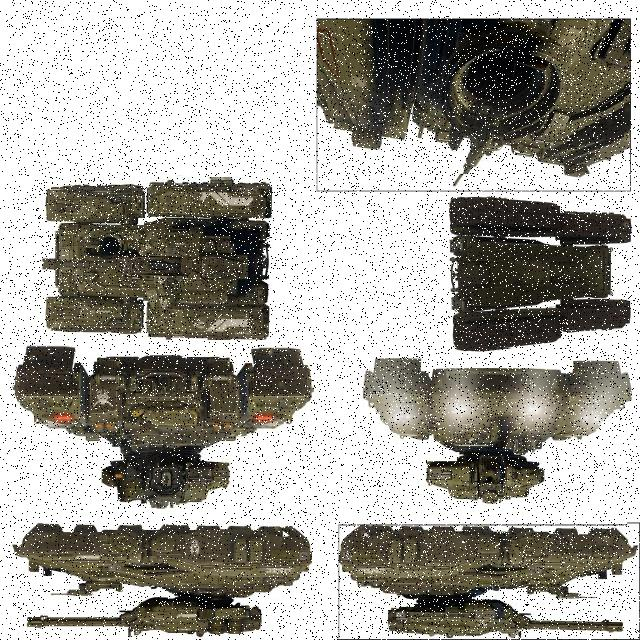MIL_MBT: (17, 351, 323, 512), (321, 26, 624, 173), (359, 348, 633, 508), (35, 179, 273, 339), (416, 182, 630, 357), (333, 522, 626, 638), (13, 521, 313, 634)
